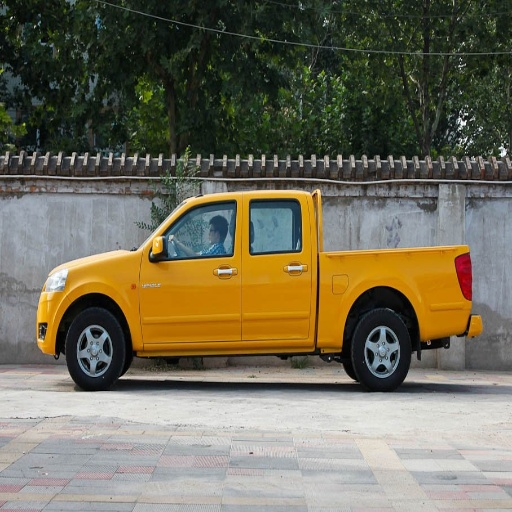back_left_door: (243, 196, 312, 338)
front_left_door: (139, 197, 242, 344)
trunk: (318, 249, 469, 349)
